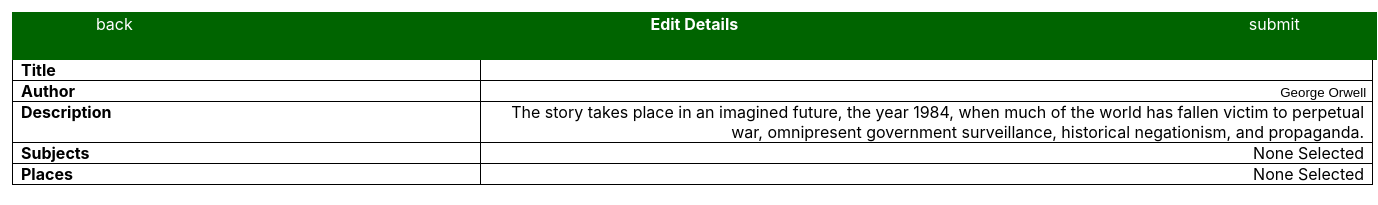
Test: The Edit component › The subject selection › Should return to edit mode when clicking on Navigator
The width and height of the screenshot is (1378, 205).
Click the element showing "Subjects None Selected" at x=693, y=154, box [12,143,1373,164]
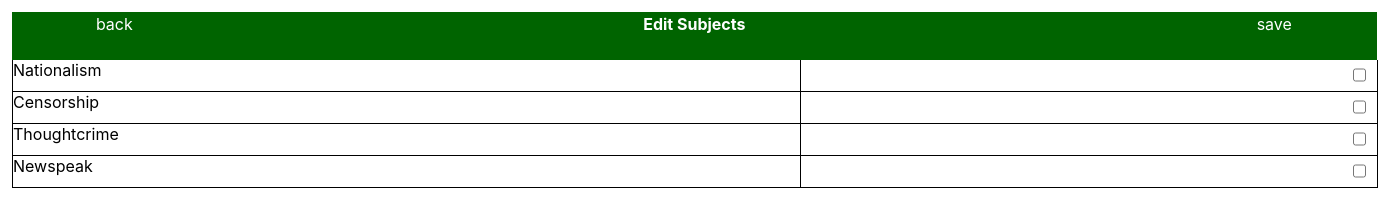
Click the element showing "back" at x=114, y=24, box [96,14,133,34]
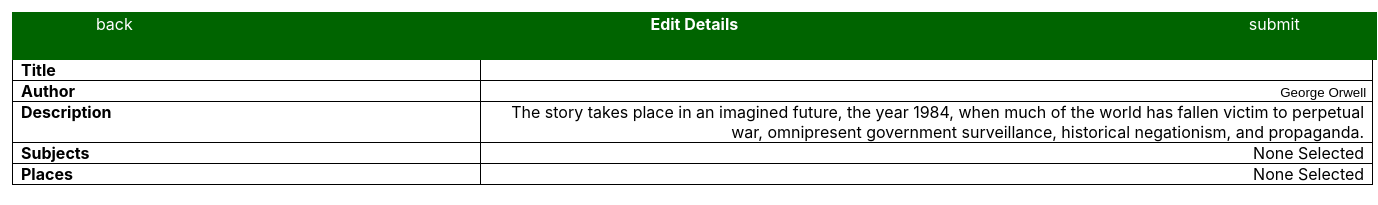
expect the text "Edit Details" is shown: met, box [650,14,738,34]
